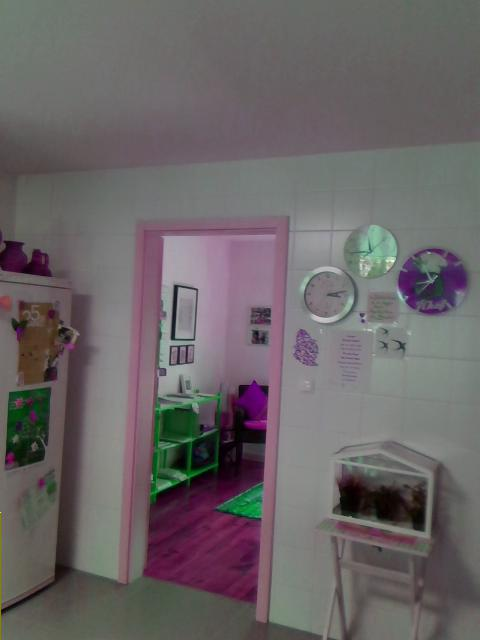open_door: (115, 213, 290, 624)
